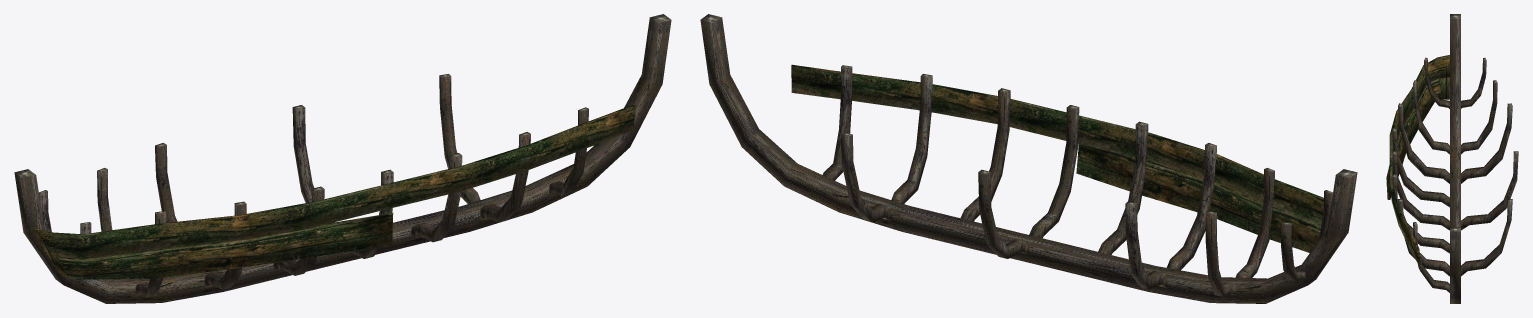
Rendered from NW_CITY_SHIP_01.glb.
3 views of the same model, side by side, from view 1: azimuth 30°, elevation 25°; view 2: azimuth 150°, elevation 25°; view 3: azimuth 270°, elevation 25° (orthographic). The views are drawn at different scales.
Parts seen in each view (by area): view 1: Mesh; view 2: Mesh; view 3: Mesh.
Part boxes in pixels (x1,y1,x2,y2): Mesh: (14,14,671,303); Mesh: (700,14,1357,303); Mesh: (1386,14,1518,303).
Size of the model in its own units: 13.55 by 3.25 by 3.48.
Materials: 3 (3 with a texture image).
